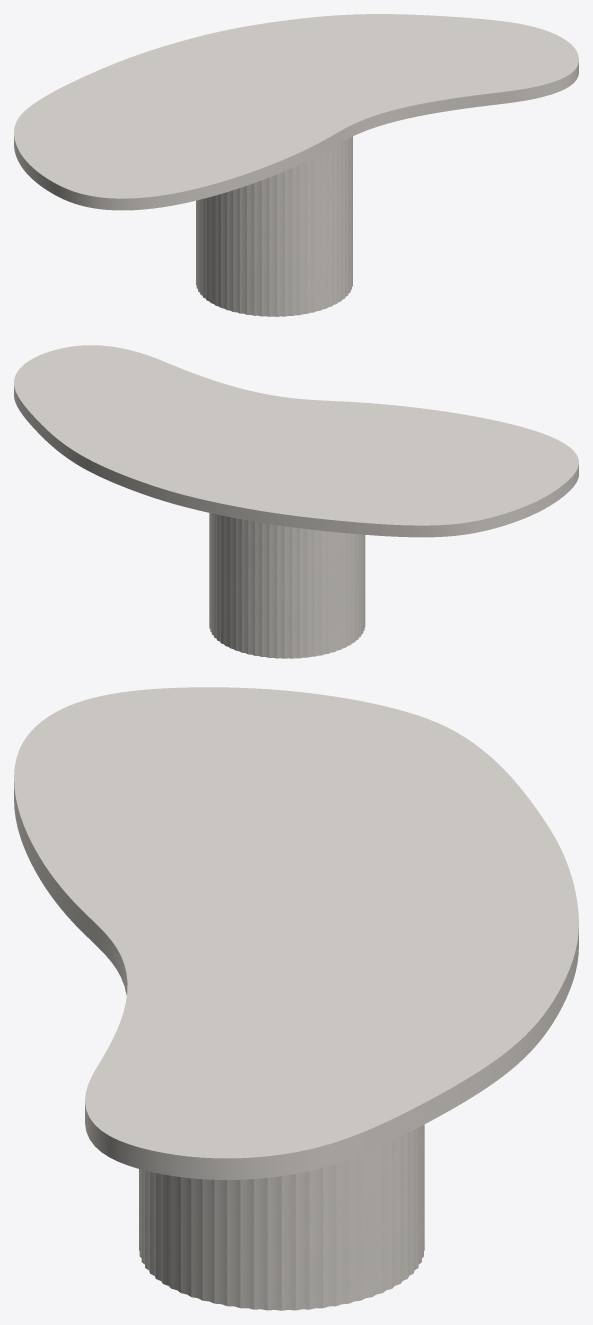
File: pearlwhite_leaf1_standard_ripple.glb
The picture shows the model from 3 angles, top to bottom: view 1: azimuth 30°, elevation 25°; view 2: azimuth 150°, elevation 25°; view 3: azimuth 270°, elevation 25°; orthographic projection. The views are drawn at different scales.
Parts seen in each view (by area): view 1: standard_leaf1, ripple; view 2: standard_leaf1, ripple; view 3: standard_leaf1, ripple.
Boxes of the visible parts, x1,y1,x2,y2 form: standard_leaf1: (14, 14, 578, 210); ripple: (196, 136, 352, 316); standard_leaf1: (14, 345, 578, 537); ripple: (209, 513, 365, 658); standard_leaf1: (14, 687, 578, 1179); ripple: (139, 1124, 424, 1310).
Bounding box in the file's own units: 7.5 × 2.51 × 3.8.
Materials: 1 (1 with a texture image).
